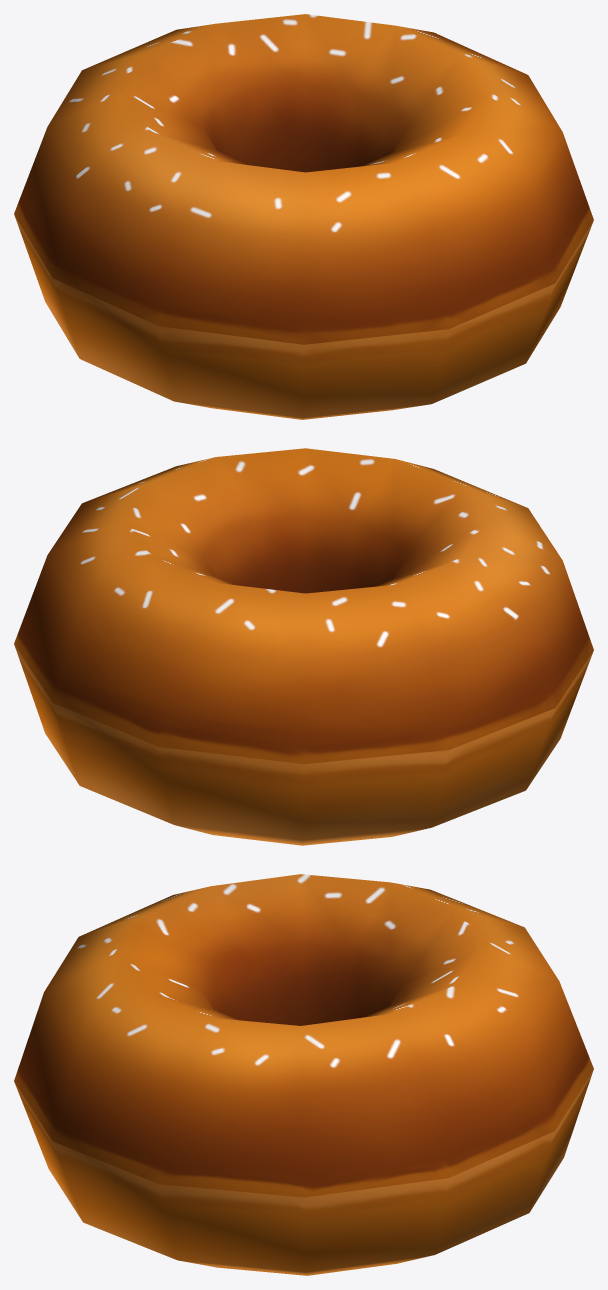
Rendered from Donuts.fbx.
3 renders of one model, top to bottom at view 1: azimuth 30°, elevation 25°; view 2: azimuth 150°, elevation 25°; view 3: azimuth 270°, elevation 25°, orthographic.
Visible parts, largest first — view 1: Donuts; view 2: Donuts; view 3: Donuts.
Boxes of the visible parts, left/top/right/bottom form: Donuts: left=14, top=14, right=593, bottom=419; Donuts: left=14, top=448, right=593, bottom=845; Donuts: left=14, top=874, right=593, bottom=1275.
Bounding box in the file's own units: 21.8 × 10.67 × 21.79.
